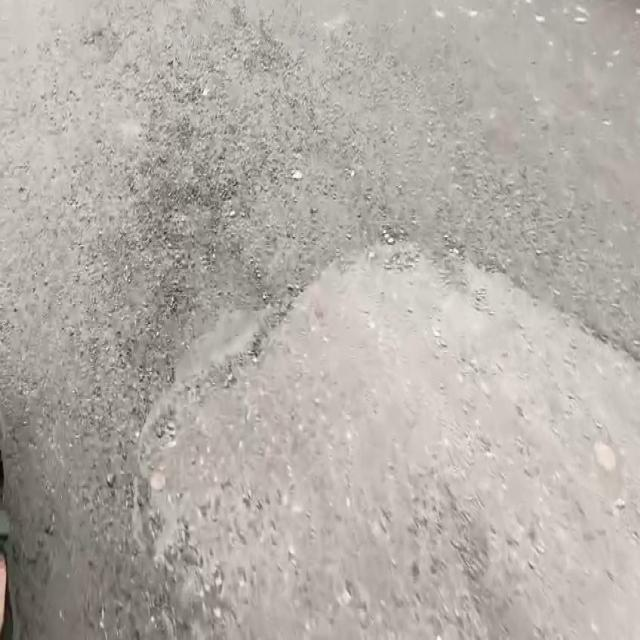road-pothole: (154, 231, 639, 639)
